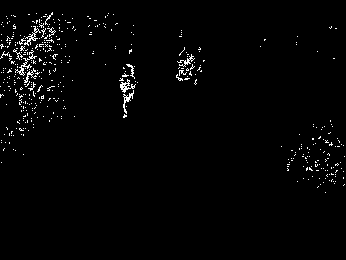person: (118, 64, 139, 118)
